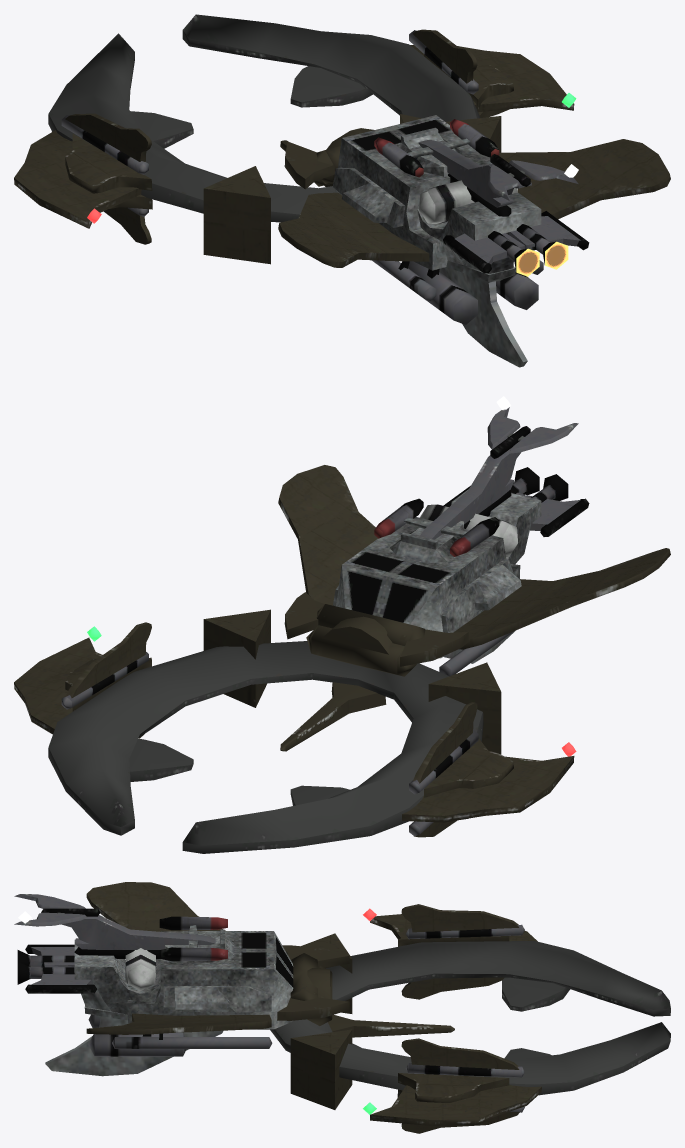
The model's file is goliath-x.glb.
The picture shows the model from 3 angles, top to bottom: view 1: azimuth 30°, elevation 25°; view 2: azimuth 150°, elevation 25°; view 3: azimuth 270°, elevation 25°; orthographic projection. The views are drawn at different scales.
Parts seen in each view (by area): view 1: goliath_x_design_legend_lowpoly; view 2: goliath_x_design_legend_lowpoly; view 3: goliath_x_design_legend_lowpoly.
Part boxes in pixels (x1,y1,x2,y2): goliath_x_design_legend_lowpoly: [14, 14, 670, 367]; goliath_x_design_legend_lowpoly: [14, 407, 670, 853]; goliath_x_design_legend_lowpoly: [14, 882, 670, 1133].
Size of the model in its own units: 106 by 42.35 by 142.
Materials: 4 (1 with a texture image).
